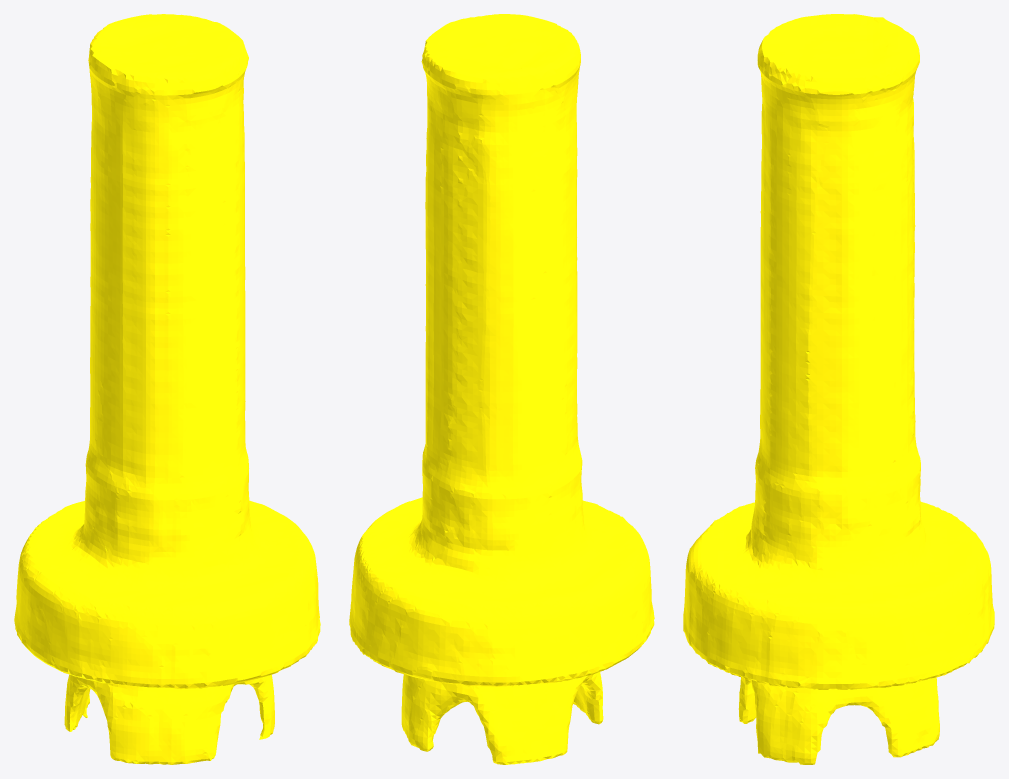
The model's file is yellow_buoy.dae.
3 views of the same model, side by side, from view 1: azimuth 30°, elevation 25°; view 2: azimuth 150°, elevation 25°; view 3: azimuth 270°, elevation 25° (orthographic).
Parts seen in each view (by area): view 1: black_summark; view 2: black_summark; view 3: black_summark.
Part boxes in pixels (x1,y1,x2,y2): black_summark: [14, 14, 320, 764]; black_summark: [349, 14, 654, 764]; black_summark: [683, 14, 994, 764].
Size of the model in its own units: 0.4989 by 0.5122 by 1.25.
